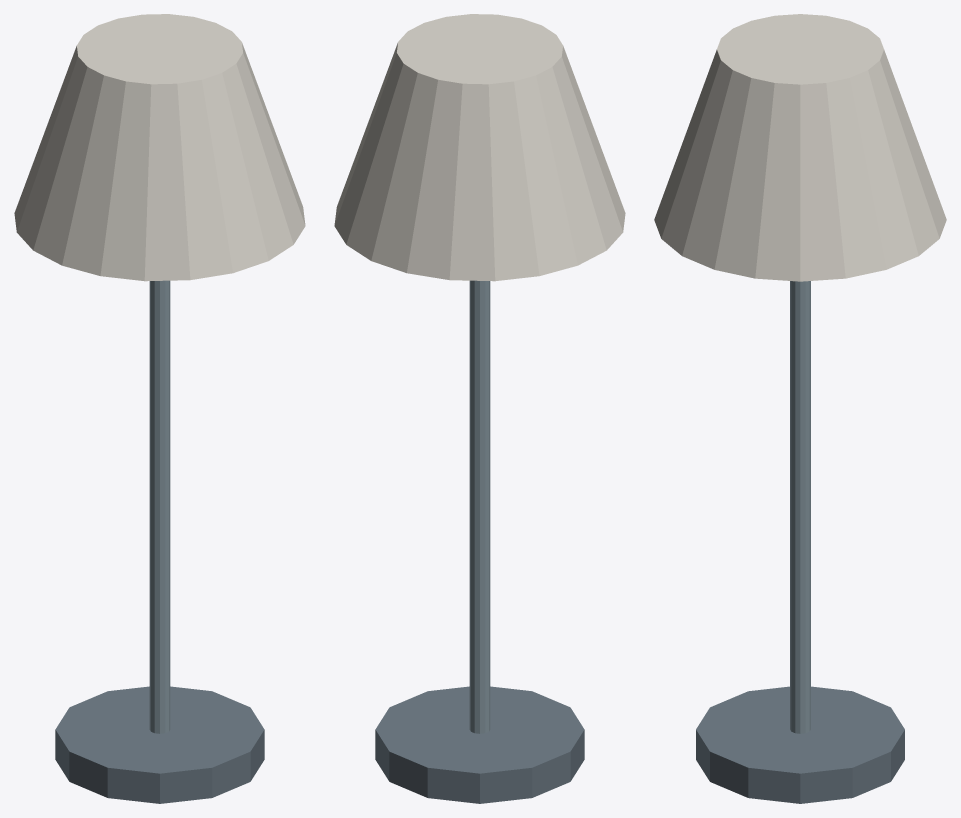
The model's file is floor_lamp.glb.
3 views of the same model, side by side, from view 1: azimuth 30°, elevation 25°; view 2: azimuth 150°, elevation 25°; view 3: azimuth 270°, elevation 25° (orthographic).
Visible parts, largest first — view 1: floor_lamp_002, floor_lamp_000, floor_lamp_001; view 2: floor_lamp_002, floor_lamp_000, floor_lamp_001; view 3: floor_lamp_002, floor_lamp_000, floor_lamp_001.
Part boxes in pixels (x1,y1,x2,y2): floor_lamp_002: (14, 14, 305, 281); floor_lamp_000: (55, 686, 264, 803); floor_lamp_001: (149, 280, 170, 733); floor_lamp_002: (334, 14, 625, 281); floor_lamp_000: (375, 686, 584, 803); floor_lamp_001: (469, 280, 490, 733); floor_lamp_002: (654, 14, 946, 281); floor_lamp_000: (696, 686, 904, 803); floor_lamp_001: (790, 281, 810, 733).
Bounding box in the file's own units: 0.7 × 1.87 × 0.7.
